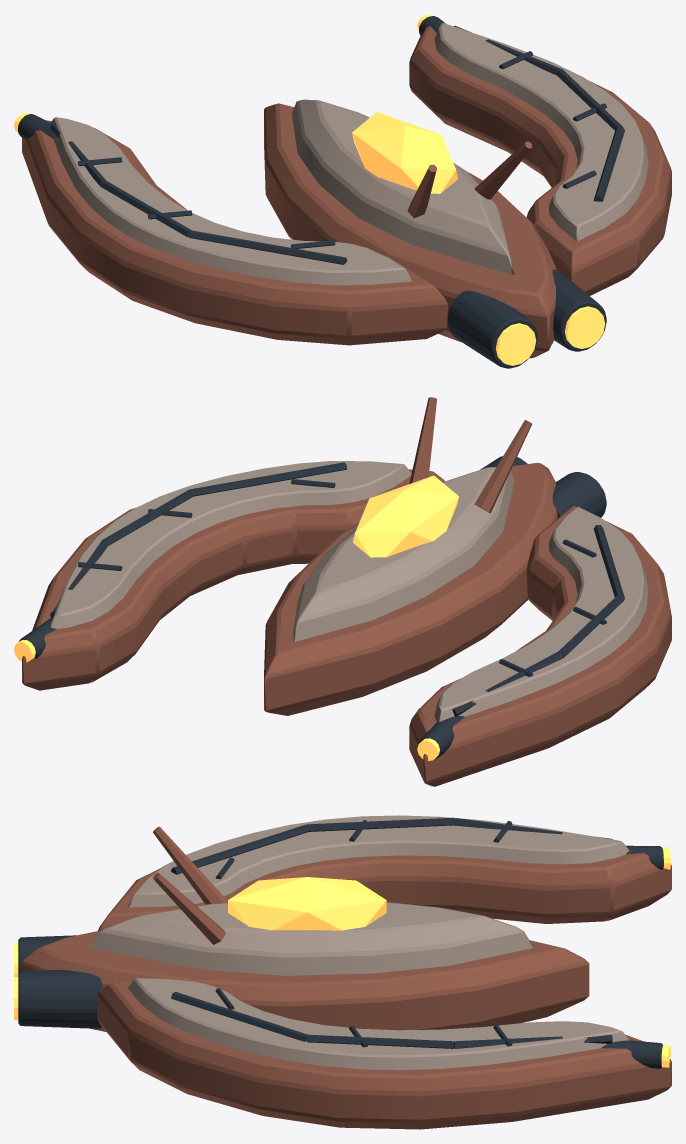
The model's file is raider.glb.
The picture shows the model from 3 angles, top to bottom: view 1: azimuth 30°, elevation 25°; view 2: azimuth 150°, elevation 25°; view 3: azimuth 270°, elevation 25°; orthographic projection.
Visible parts, largest first — view 1: Swept blade -1__Npc_raider, Swept blade 1__Npc_raider, Keel__Npc_raider, Blade armour -1__Npc_raider, Dorsal shell__Npc_raider, Blade armour 1__Npc_raider, Command crystal__Npc_raider, Drive housing -0.18__Npc_raider, Drive housing 0.18__Npc_raider, Conduit -1 0__Npc_raider, Drive core 0.18__Npc_raider, Drive core -0.18__Npc_raider (+6 smaller); view 2: Keel__Npc_raider, Swept blade 1__Npc_raider, Swept blade -1__Npc_raider, Blade armour 1__Npc_raider, Dorsal shell__Npc_raider, Blade armour -1__Npc_raider, Command crystal__Npc_raider, Drive housing -0.18__Npc_raider, Spine fin -1__Npc_raider, Conduit 1 0__Npc_raider, Spine fin 1__Npc_raider, Conduit 1 1__Npc_raider (+4 smaller); view 3: Swept blade 1__Npc_raider, Keel__Npc_raider, Dorsal shell__Npc_raider, Swept blade -1__Npc_raider, Blade armour 1__Npc_raider, Blade armour -1__Npc_raider, Command crystal__Npc_raider, Drive housing 0.18__Npc_raider, Spine fin -1__Npc_raider, Spine fin 1__Npc_raider, Conduit 1 0__Npc_raider, Conduit 1 1__Npc_raider (+7 smaller).
Part boxes in pixels (bbox=[...]): Swept blade -1__Npc_raider: bbox=[22, 120, 447, 345]; Swept blade 1__Npc_raider: bbox=[409, 26, 671, 295]; Keel__Npc_raider: bbox=[264, 103, 556, 358]; Blade armour -1__Npc_raider: bbox=[50, 117, 412, 285]; Dorsal shell__Npc_raider: bbox=[292, 99, 514, 275]; Blade armour 1__Npc_raider: bbox=[434, 23, 648, 240]; Command crystal__Npc_raider: bbox=[352, 112, 457, 193]; Drive housing -0.18__Npc_raider: bbox=[448, 290, 537, 368]; Drive housing 0.18__Npc_raider: bbox=[552, 269, 606, 351]; Conduit -1 0__Npc_raider: bbox=[189, 230, 347, 264]; Drive core 0.18__Npc_raider: bbox=[564, 306, 605, 348]; Drive core -0.18__Npc_raider: bbox=[495, 323, 536, 365]; Keel__Npc_raider: bbox=[264, 462, 557, 715]; Swept blade 1__Npc_raider: bbox=[22, 469, 444, 690]; Swept blade -1__Npc_raider: bbox=[409, 506, 671, 786]; Blade armour 1__Npc_raider: bbox=[50, 461, 411, 629]; Dorsal shell__Npc_raider: bbox=[292, 467, 514, 641]; Blade armour -1__Npc_raider: bbox=[434, 507, 648, 722]; Command crystal__Npc_raider: bbox=[353, 475, 458, 557]; Drive housing -0.18__Npc_raider: bbox=[552, 472, 606, 517]; Spine fin -1__Npc_raider: bbox=[474, 420, 531, 513]; Conduit 1 0__Npc_raider: bbox=[189, 462, 347, 496]; Spine fin 1__Npc_raider: bbox=[409, 397, 436, 483]; Conduit 1 1__Npc_raider: bbox=[102, 490, 193, 545]; Swept blade 1__Npc_raider: bbox=[97, 982, 671, 1129]; Keel__Npc_raider: bbox=[20, 930, 589, 1031]; Dorsal shell__Npc_raider: bbox=[90, 902, 533, 975]; Swept blade -1__Npc_raider: bbox=[98, 853, 671, 930]; Blade armour 1__Npc_raider: bbox=[128, 978, 628, 1070]; Blade armour -1__Npc_raider: bbox=[128, 815, 629, 907]; Command crystal__Npc_raider: bbox=[228, 877, 386, 930]; Drive housing 0.18__Npc_raider: bbox=[18, 969, 102, 1028]; Spine fin -1__Npc_raider: bbox=[153, 826, 225, 904]; Spine fin 1__Npc_raider: bbox=[153, 873, 225, 944]; Conduit 1 0__Npc_raider: bbox=[171, 991, 308, 1041]; Conduit 1 1__Npc_raider: bbox=[307, 1034, 453, 1048].
Bounding box in the file's own units: 1.82 × 0.5372 × 1.91.
